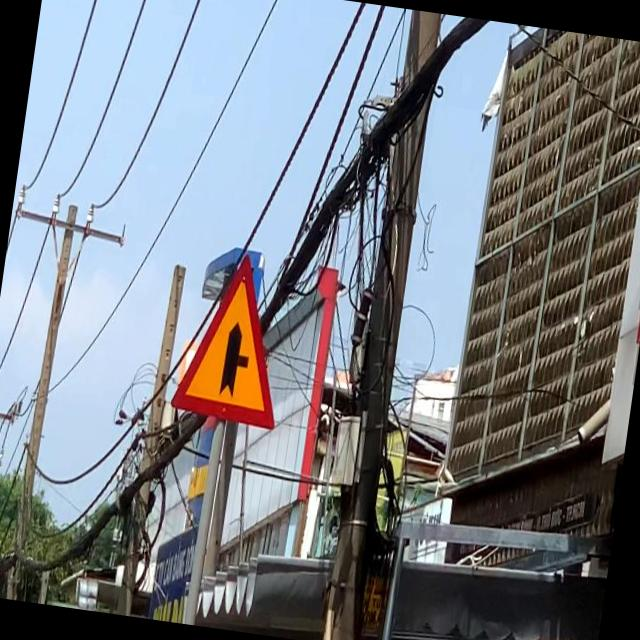W-207b: (170, 246, 300, 429)
